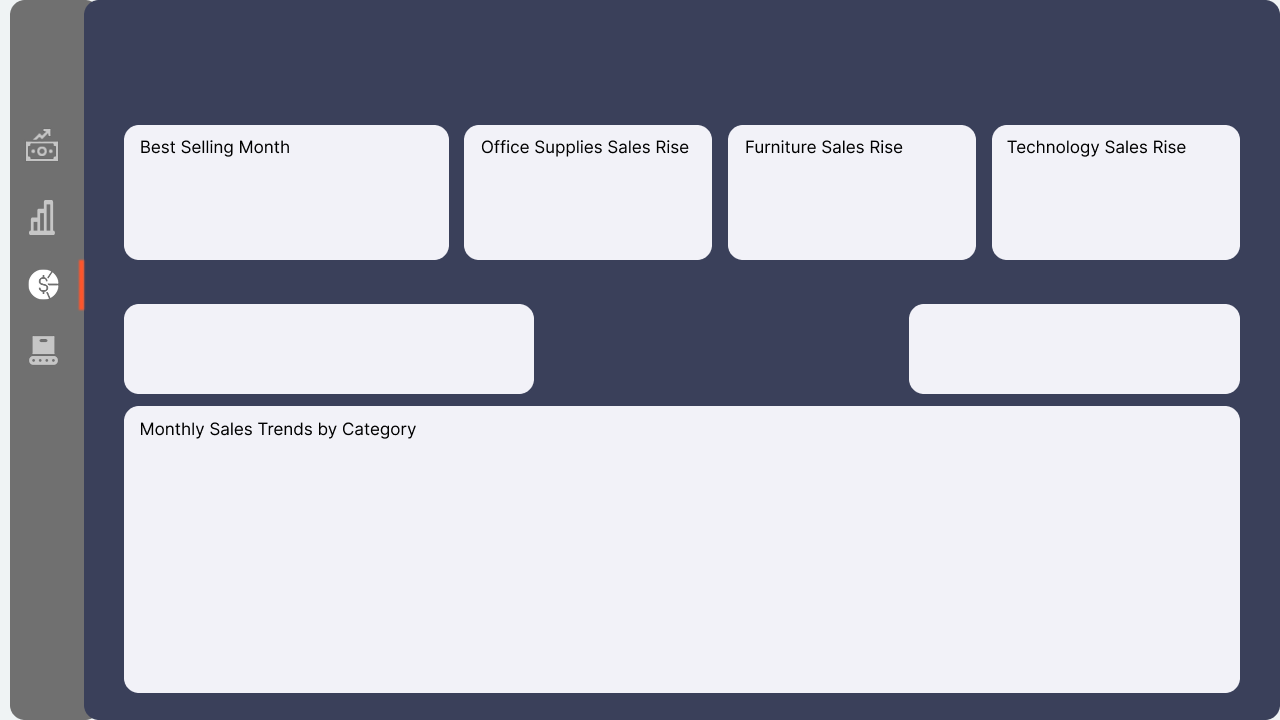

This screenshot's page, from the dashboard's own definition file:
{"tool":"powerbi","page":{"name":"Page 3","canvas":[1280,720],"ordinal":2},"visuals":[{"type":"lineChart","title":"Shipped Products Quantity Category","fields":{"Y":["Sum(SalesTransaction.Quantity)"],"Series":["Products.Category"],"Category":["SalesTransaction.Ship Date.Variation.Date Hierarchy.Month"]},"box":[136.7,426.1,1105,276.2],"z":0},{"type":"slicer","fields":{"Values":["SalesTransaction.Ship Date.Variation.Date Hierarchy.Year"]},"box":[886,301.2,368.8,91.1],"z":1000},{"type":"slicer","fields":{"Values":["Customers.Region"]},"box":[116.7,301.7,420,90],"z":2000},{"type":"card","fields":{"Values":["SalesTransaction.Best Selling Month"]},"box":[121.7,128.3,328.3,123.3],"z":3000},{"type":"card","fields":{"Values":["SalesTransaction.P3 Office Supplies Sale Lift %"]},"box":[465,128.3,245,123.3],"z":4000},{"type":"card","fields":{"Values":["SalesTransaction.P3 Furniture Sale Lift %"]},"box":[730,128.3,248.3,123.3],"z":5000},{"type":"card","fields":{"Values":["SalesTransaction.P3 Technology Sale Lift %"]},"box":[991.7,128.3,251.7,123.3],"z":6000},{"type":"textbox","box":[122,25,1121.1,85.2],"z":7000},{"type":"shape","box":[875.8,39.7,32.3,33.8],"z":8000},{"type":"shape","box":[1157.9,38.2,30.9,33.8],"z":9000},{"type":"actionButton","box":[11.8,320.3,70.5,55.8],"z":10000},{"type":"actionButton","box":[8.8,116.1,70.5,55.8],"z":11000},{"type":"actionButton","box":[11.8,186.6,70.5,55.8],"z":12000}]}

Visuals, with their boxes on the page's 1280x720 design canvas (x1, y1, x2, y2). These are canvas units, not pixel positions in the 1280x720 screenshot, which may show the page scaled, cropped or inside an application window:
"Shipped Products Quantity Category" lineChart: bbox=[137, 426, 1242, 702]
slicer - SalesTransaction.Ship Date.Variation.Date Hierarchy.Year: bbox=[886, 301, 1255, 392]
slicer - Customers.Region: bbox=[117, 302, 537, 392]
card - SalesTransaction.Best Selling Month: bbox=[122, 128, 450, 252]
card - SalesTransaction.P3 Office Supplies Sale Lift %: bbox=[465, 128, 710, 252]
card - SalesTransaction.P3 Furniture Sale Lift %: bbox=[730, 128, 978, 252]
card - SalesTransaction.P3 Technology Sale Lift %: bbox=[992, 128, 1243, 252]
textbox: bbox=[122, 25, 1243, 110]
shape: bbox=[876, 40, 908, 74]
shape: bbox=[1158, 38, 1189, 72]
actionButton: bbox=[12, 320, 82, 376]
actionButton: bbox=[9, 116, 79, 172]
actionButton: bbox=[12, 187, 82, 242]
